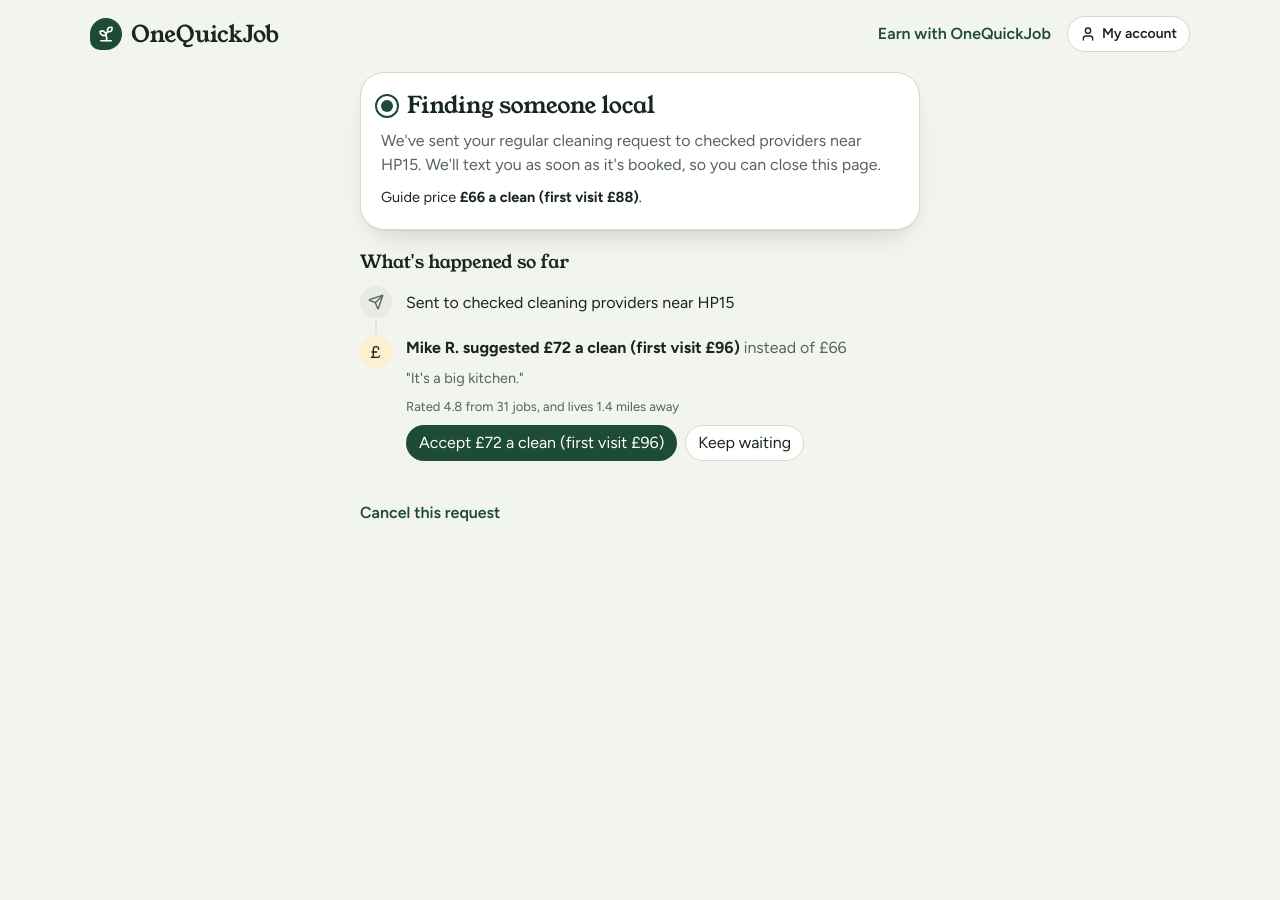
Test: Finding someone local › keep waiting declines the counter
Click the button "Keep waiting" at x=745, y=443, box left=685, top=425, right=804, bottom=461
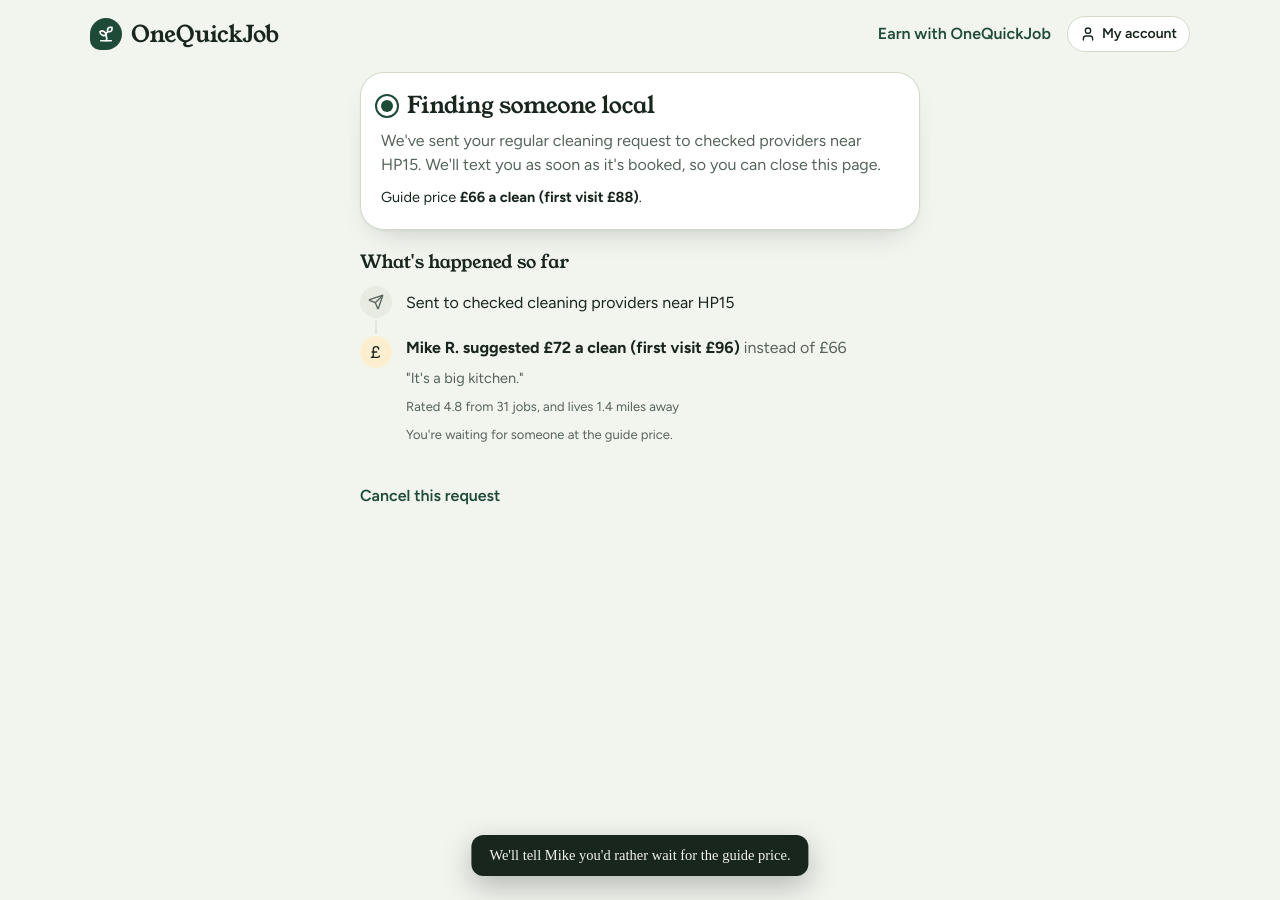
Check: the text "You're waiting for someone at the guide price." is shown, box left=406, top=427, right=673, bottom=442
